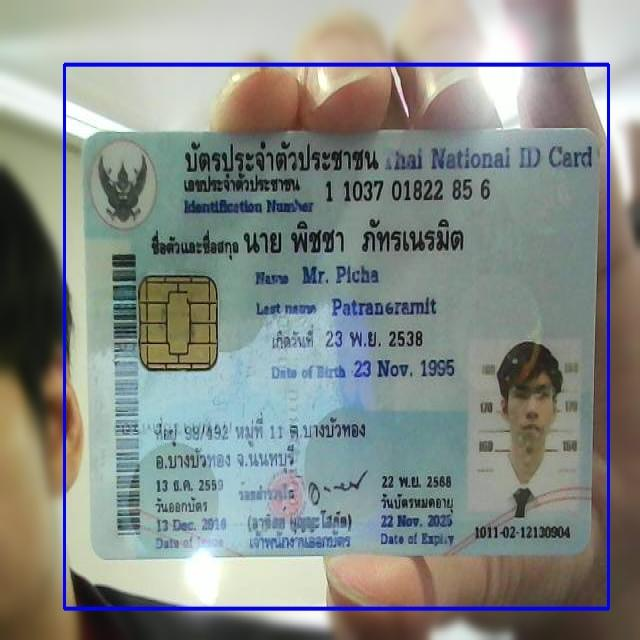Address_th: (152, 411, 370, 476)
Date_of_Birth: (351, 353, 458, 384)
Date_of_Expiry: (376, 510, 458, 532)
Date_of_Issue: (149, 516, 230, 534)
First_Name: (297, 258, 383, 290)
ID_Number: (321, 174, 494, 207)
Image: (469, 343, 581, 520)
Last_Name: (328, 293, 441, 321)
Thai_Name: (241, 214, 469, 262)
